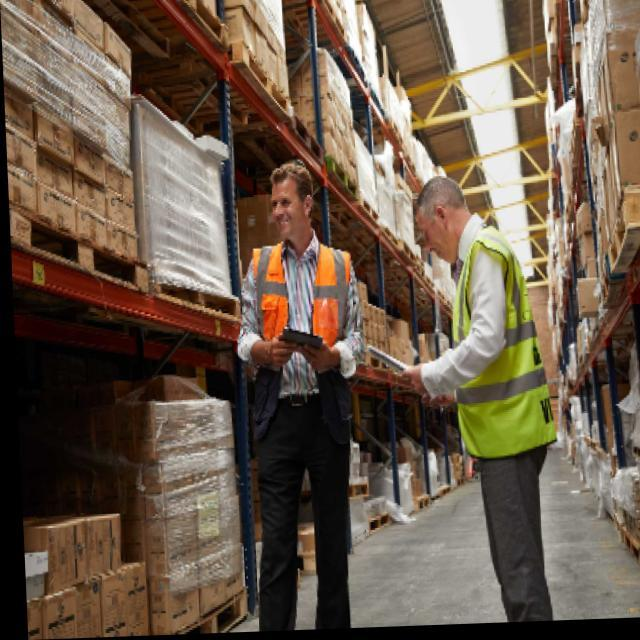vest: (439, 222, 558, 464), (246, 241, 361, 432)
